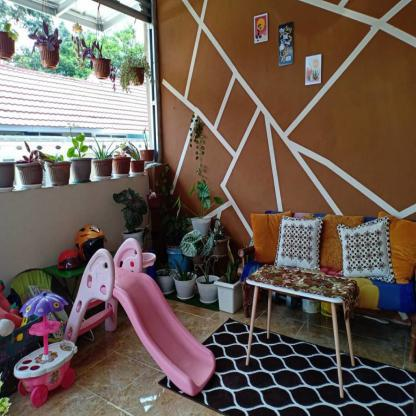bantal: (340, 225, 392, 278), (280, 217, 319, 270)
sova: (245, 209, 416, 360)
tanaman: (1, 19, 150, 88), (1, 136, 157, 176)
